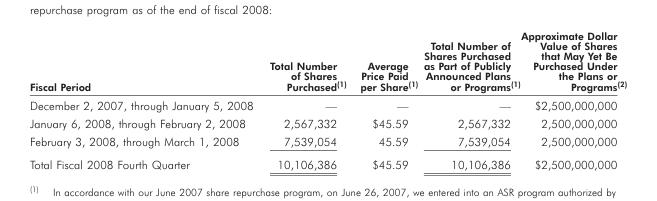table: (28, 28, 626, 170)
table column: (28, 28, 260, 170), (519, 28, 626, 170), (420, 28, 519, 170), (260, 28, 352, 170), (352, 28, 420, 170)
table column header: (28, 28, 626, 94)
table row: (28, 28, 626, 94), (28, 131, 626, 151), (28, 94, 626, 113), (28, 151, 626, 170), (28, 113, 626, 131)
